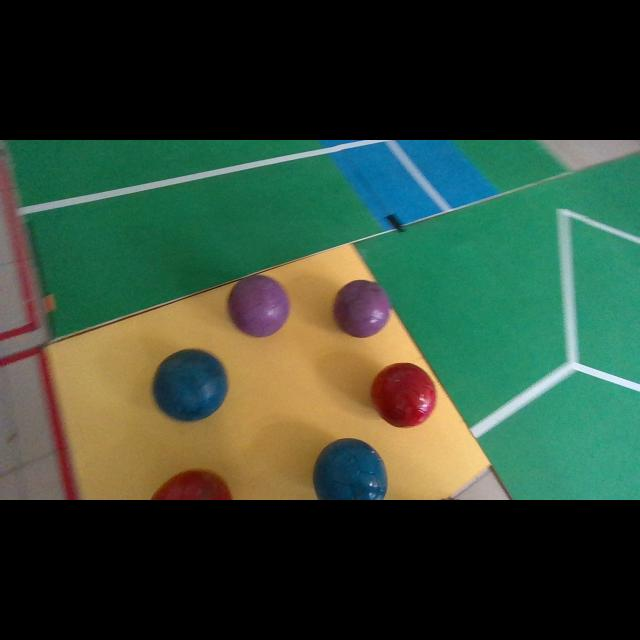B: (154, 349, 228, 421), (312, 439, 388, 500)
P: (228, 275, 290, 337), (334, 280, 391, 338)
R: (371, 362, 436, 428), (151, 470, 232, 500)
